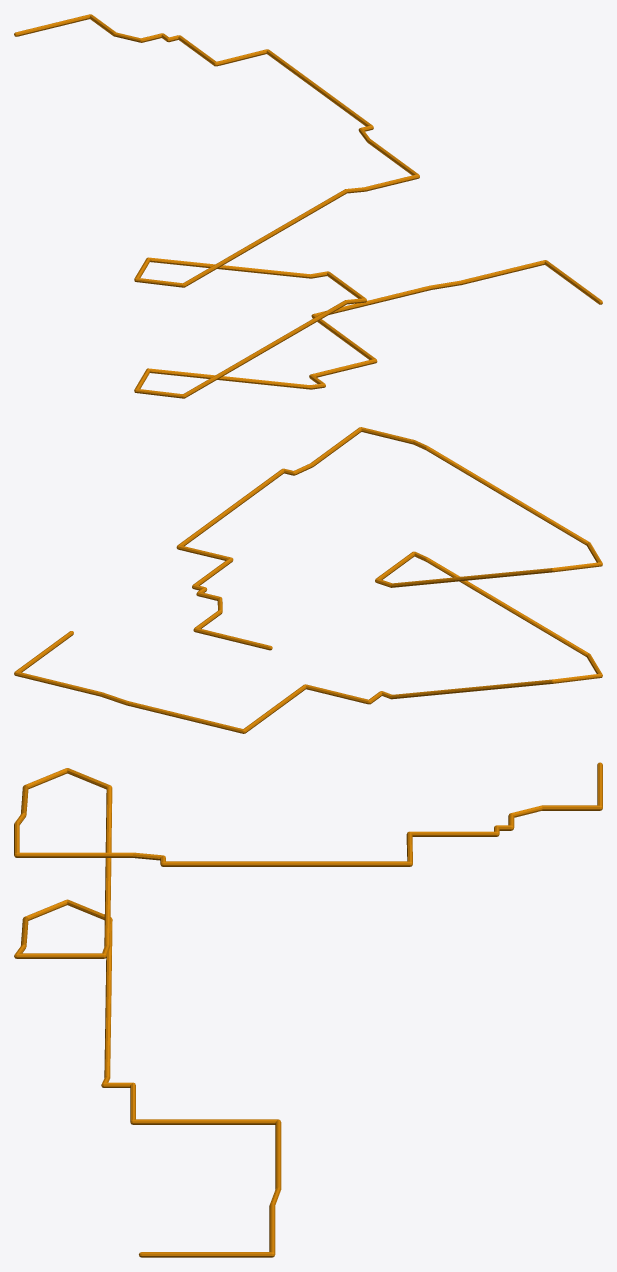
3 views of the same model, one above another, from view 1: azimuth 30°, elevation 25°; view 2: azimuth 150°, elevation 25°; view 3: azimuth 270°, elevation 25° (orthographic). The views are drawn at different scales.
Bounding box in the file's own units: 2356 × 1020 × 2028.
